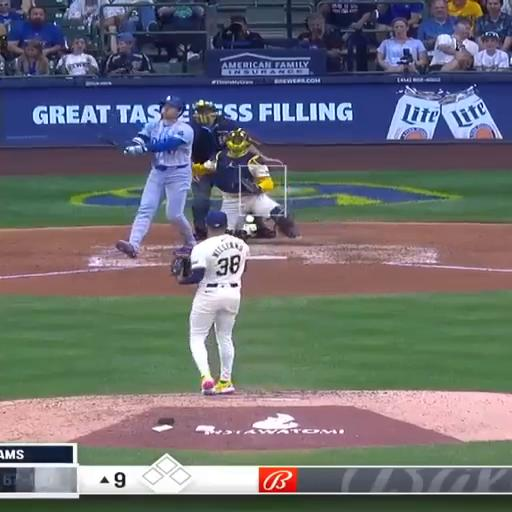bat: (77, 119, 129, 148)
